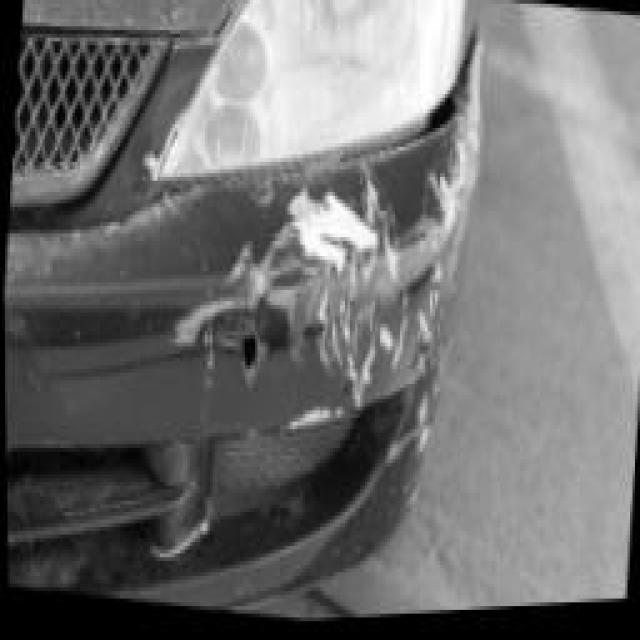Bumper: (218, 117, 495, 549)
